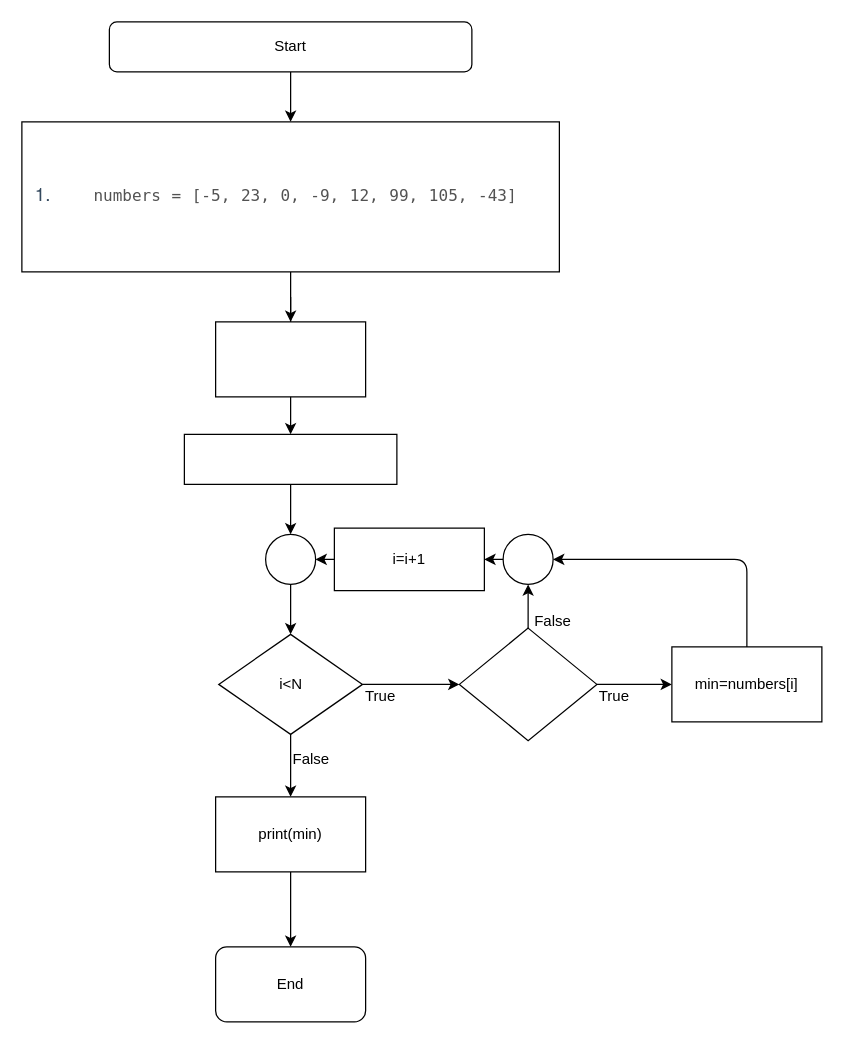
Image size: 844x1044. Some labels were removed from this diagram. The shapes that lost their labels are listed below. From the top down, each one's centre as x and y in pixels, then its label:
At pixel 290 359: "min=numbers[0]".
At pixel 290 458: "i=1".
At pixel 527 684: "numbers[i]<=min".
